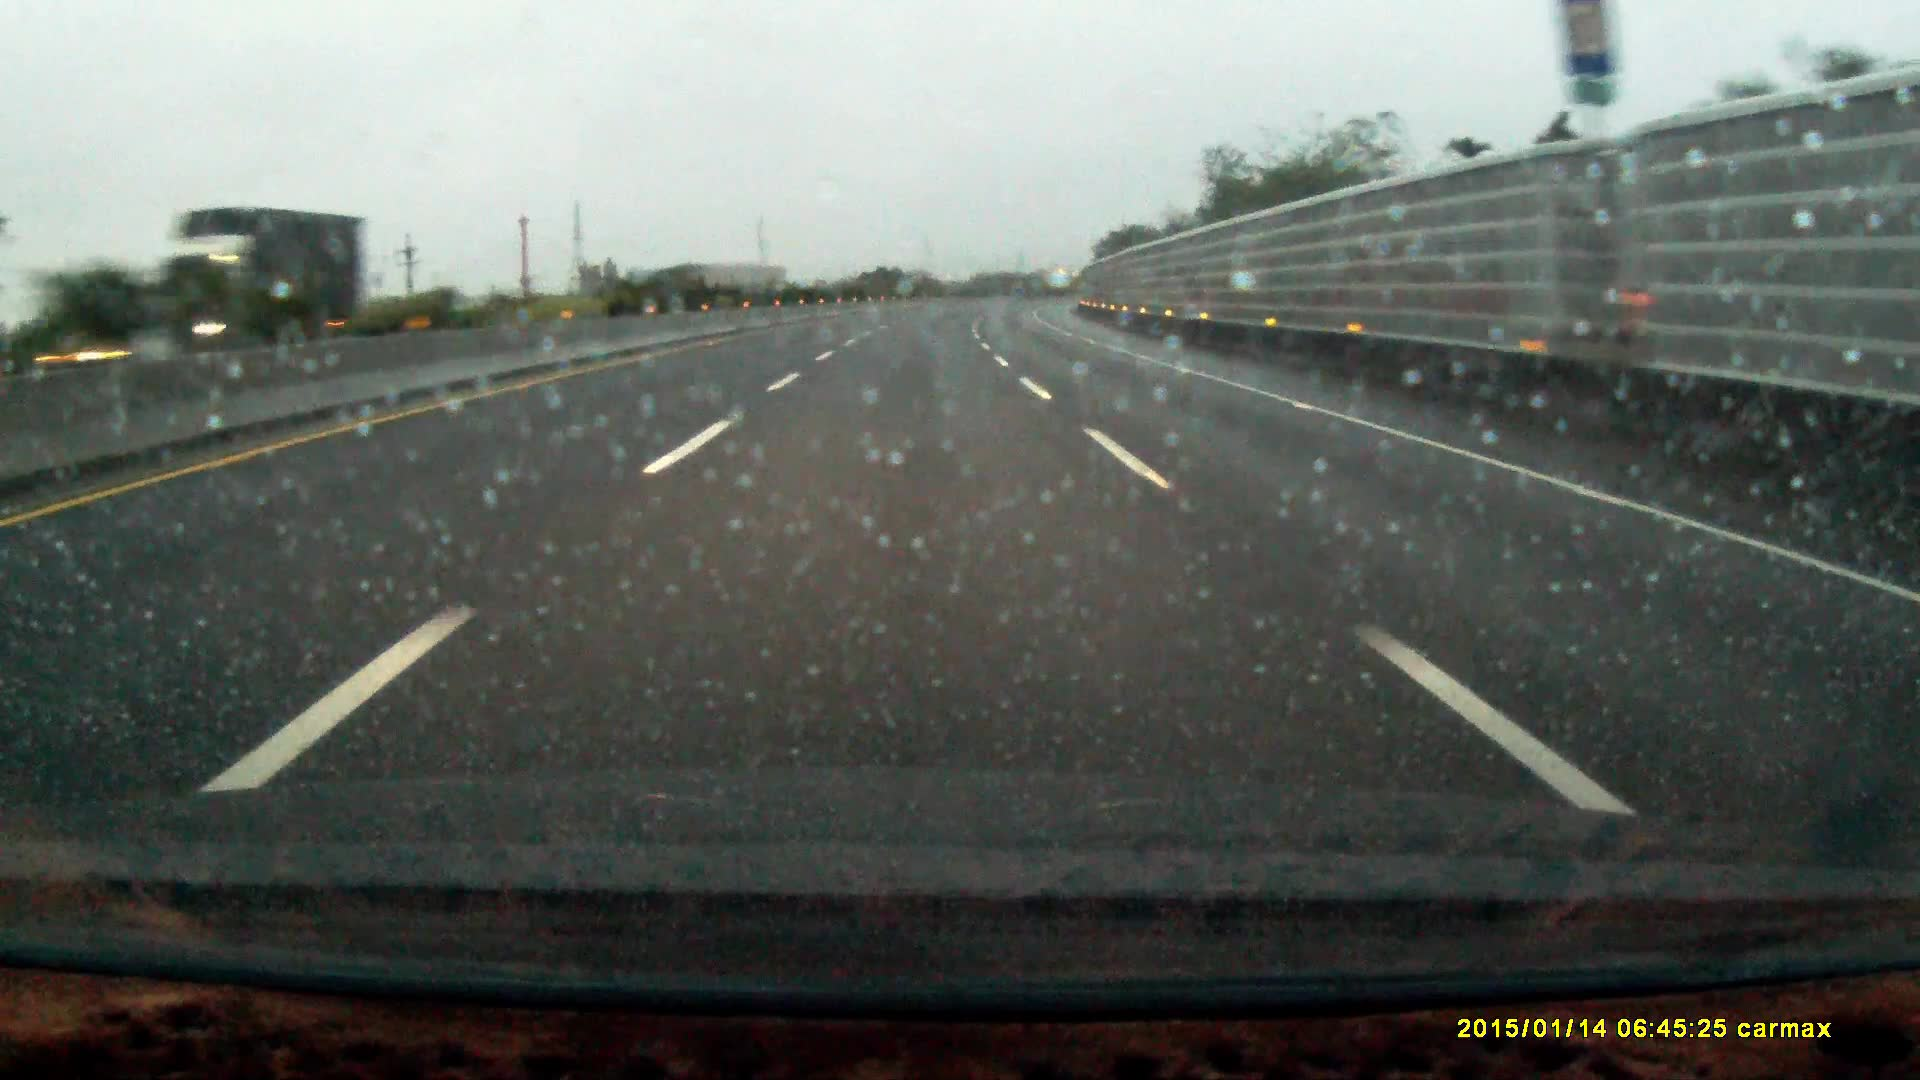vehicle: (160, 204, 367, 349)
